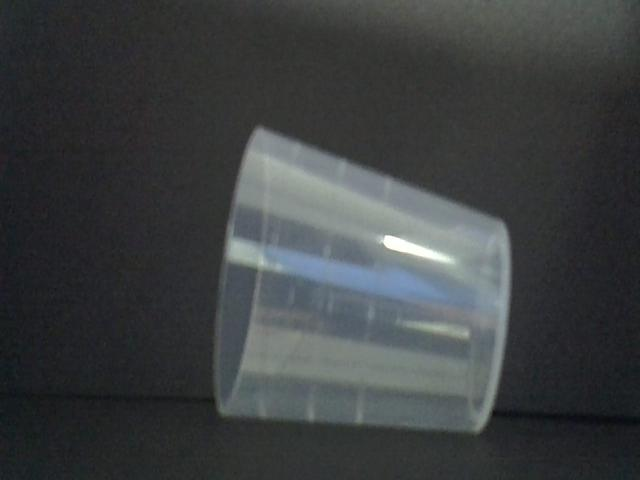cup: (212, 122, 514, 440)
